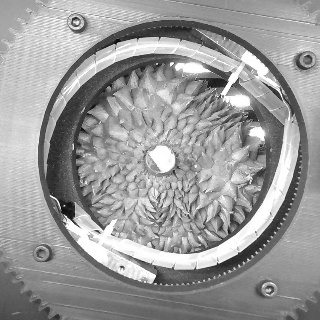base: (136, 139, 185, 184)
end: (148, 144, 176, 173)
